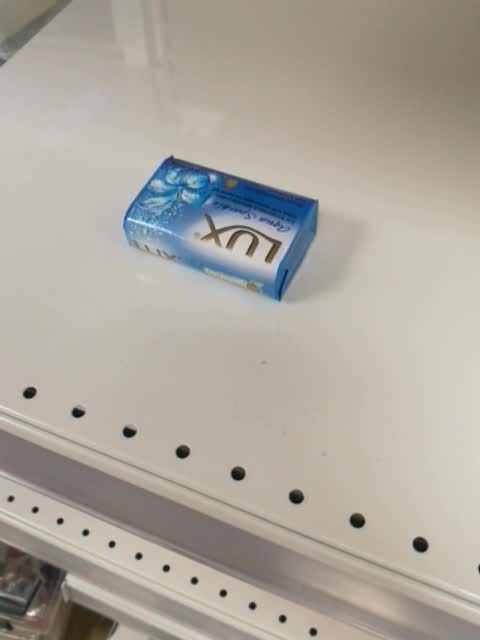soap: (122, 154, 319, 305)
